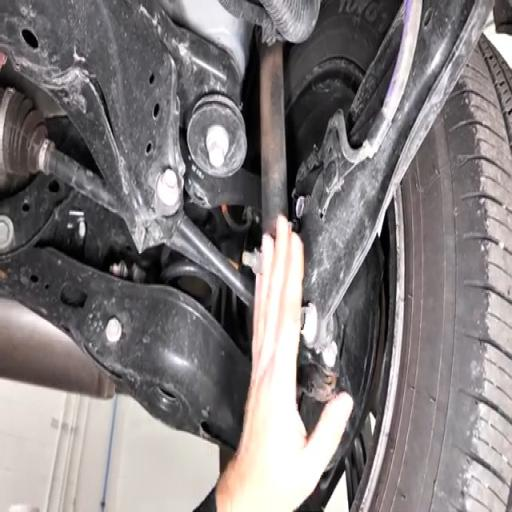tire: (366, 37, 511, 511)
wheel: (352, 37, 511, 511)
